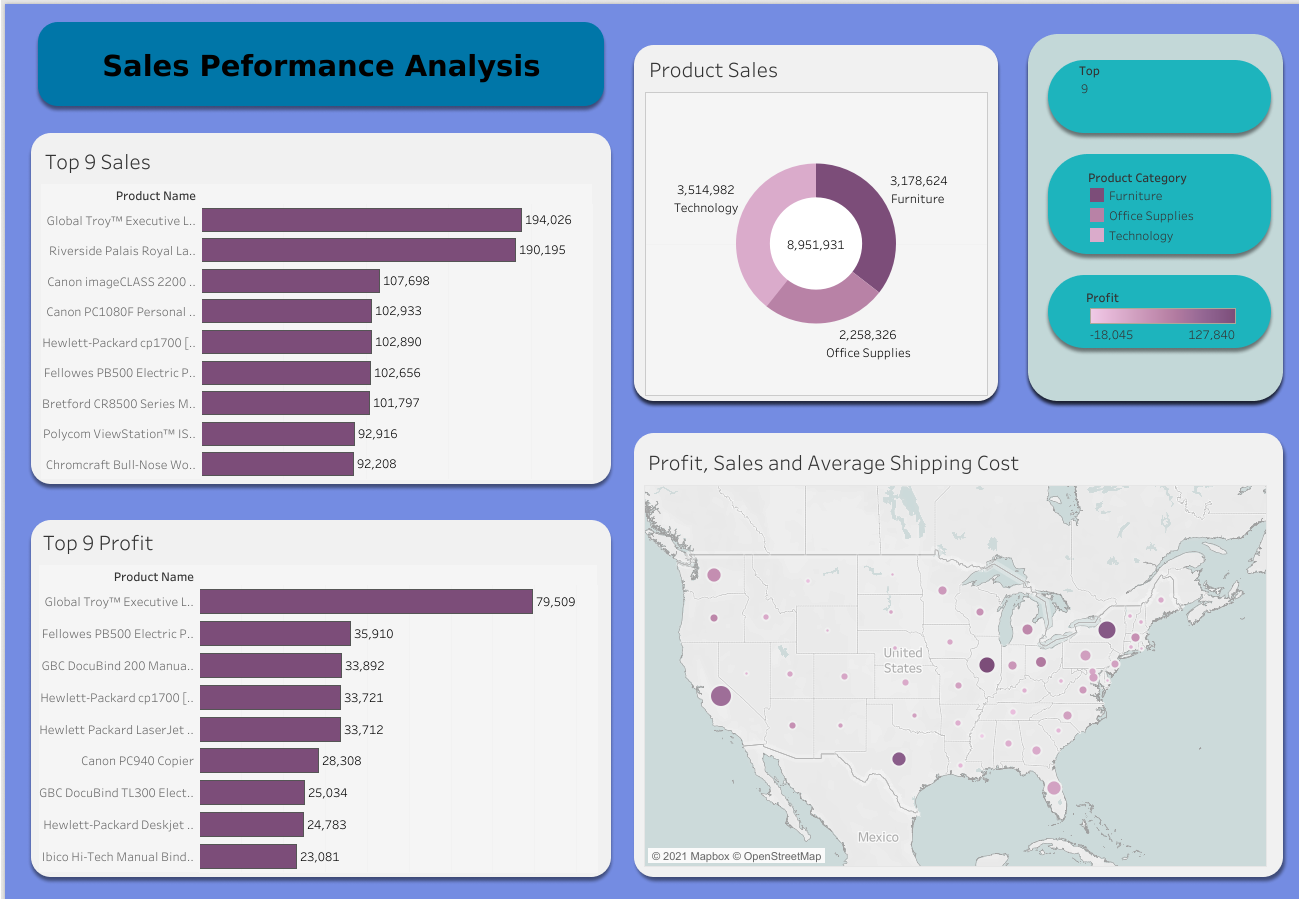

Layout of this report page (visuals, bound fields, positions):
{"tool":"tableau","page":{"name":"Sales Performance Analysis","canvas":[1300,900],"ordinal":2},"visuals":[{"type":"worksheet","box":[45,30,553,71]},{"type":"worksheet","title":"Category Vise Sales","mark":"Pie","rows":["Number of Records","Number of Records"],"box":[645,49,343,347]},{"type":"worksheet","param":"[Parameters].[Parameter 1]","box":[1079,60,172,74]},{"type":"worksheet","title":"Top Sales","mark":"Automatic","rows":["Product Name"],"cols":["Sales"],"box":[41,141,551,338]},{"type":"worksheet","title":"Category Vise Sales","mark":"Pie","rows":["Number of Records","Number of Records"],"param":"[federated.0ah176d0ox5uv51gbola01vk91ev].[none:Product Category:nk]","box":[1087,166,148,83]},{"type":"worksheet","title":"Profit, Sales and Average Shipping Cost","mark":"Automatic","param":"[federated.0ah176d0ox5uv51gbola01vk91ev].[sum:Profit:qk]","box":[1086,284,154,56]},{"type":"worksheet","title":"Profit, Sales and Average Shipping Cost","mark":"Automatic","box":[644,442,623,425]},{"type":"worksheet","title":"Top Profit","mark":"Automatic","rows":["Product Name"],"cols":["Profit"],"box":[39,522,558,350]}]}

Visuals, with their boxes in screenshot pixels (x1, y1, x2, y2), scaled from the page's 1300x900 canvas onto the 1299x899 screenshot:
worksheet: l=45, t=30, r=598, b=101
"Category Vise Sales" worksheet (Pie marks): l=645, t=49, r=987, b=396
worksheet: l=1078, t=60, r=1250, b=134
"Top Sales" worksheet: l=41, t=141, r=592, b=478
"Category Vise Sales" worksheet (Pie marks): l=1086, t=166, r=1234, b=249
"Profit, Sales and Average Shipping Cost" worksheet: l=1085, t=284, r=1239, b=340
"Profit, Sales and Average Shipping Cost" worksheet: l=644, t=442, r=1266, b=866
"Top Profit" worksheet: l=39, t=521, r=597, b=871
